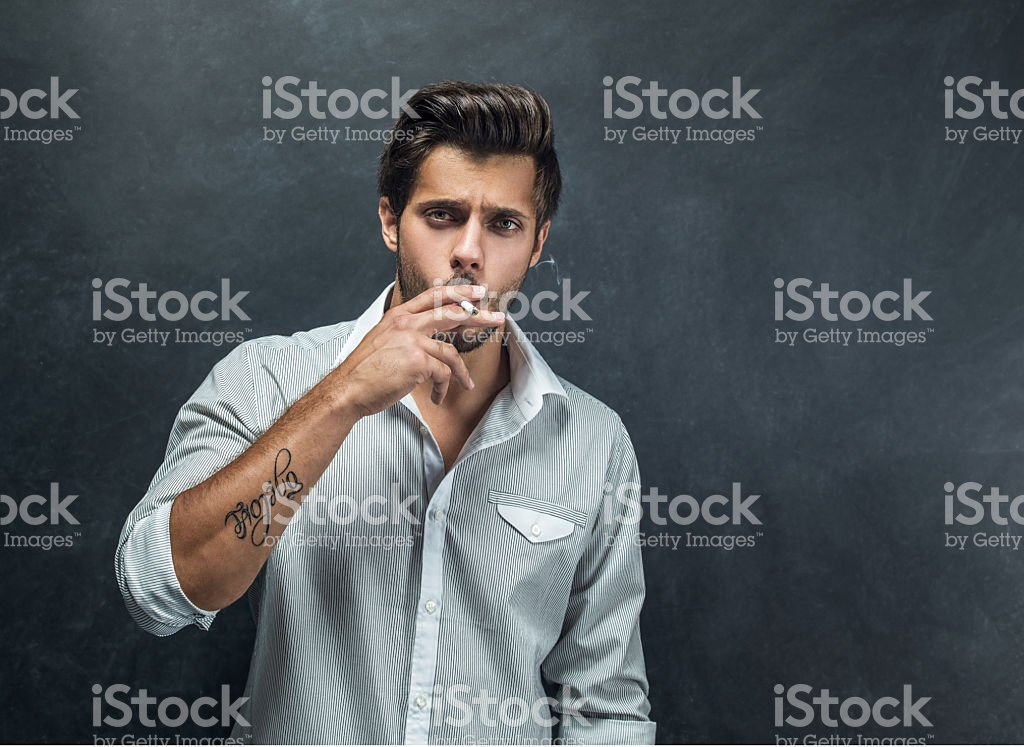cigarette: (443, 286, 480, 325)
